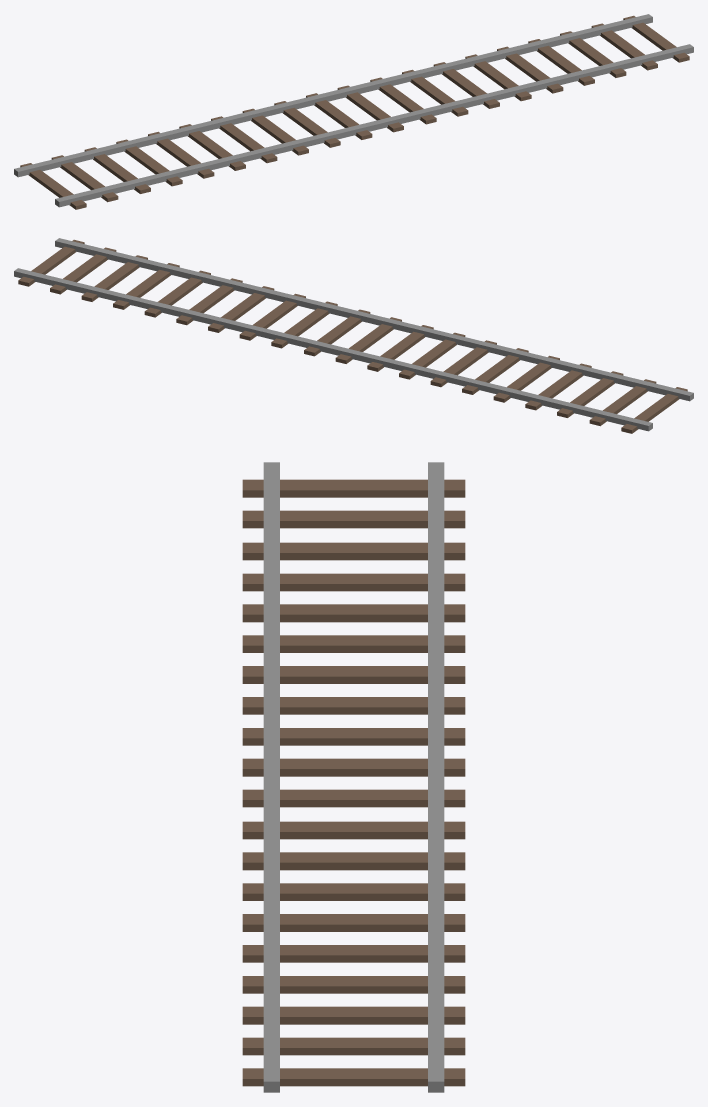
The model's file is Railway_4.fbx.
3 renders of one model, top to bottom at view 1: azimuth 30°, elevation 25°; view 2: azimuth 150°, elevation 25°; view 3: azimuth 270°, elevation 25°, orthographic. The views are drawn at different scales.
Parts seen in each view (by area): view 1: Railway_4; view 2: Railway_4; view 3: Railway_4.
Part boxes in pixels (<box>): Railway_4: <box>14,14,693,209</box>; Railway_4: <box>14,238,693,433</box>; Railway_4: <box>242,462,465,1092</box>.
Bounding box in the file's own units: 2007 × 305 × 20.84.
